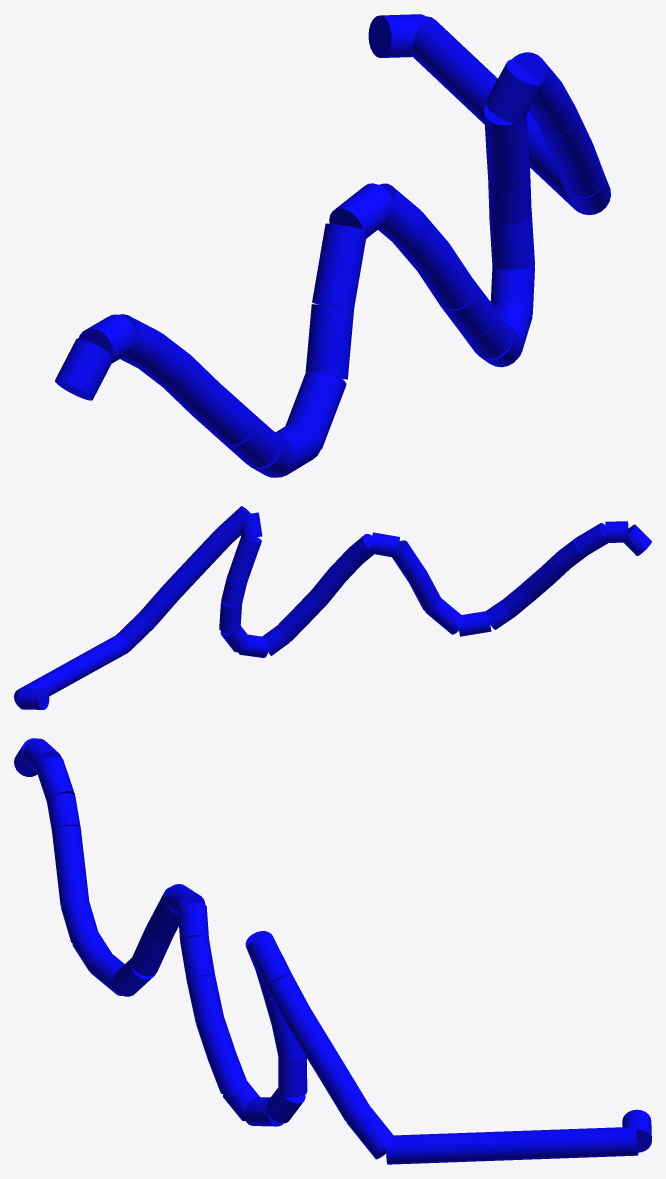
3 views of the same model, one above another, from view 1: azimuth 30°, elevation 25°; view 2: azimuth 150°, elevation 25°; view 3: azimuth 270°, elevation 25° (orthographic). The views are drawn at different scales.
Visible parts, largest first — view 1: Cylinder(Clone) (×32); view 2: Cylinder(Clone) (×33); view 3: Cylinder(Clone) (×29).
Boxes of the visible parts, x1=… form: Cylinder(Clone) (×32): x1=55, y1=14, x2=610, y2=477; Cylinder(Clone) (×33): x1=14, y1=506, x2=651, y2=709; Cylinder(Clone) (×29): x1=23, y1=738, x2=651, y2=1164.
Bounding box in the file's own units: 0.2236 × 0.0765 × 0.2195.
